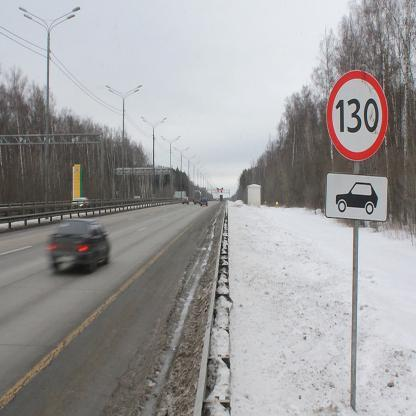road_sign: (327, 71, 387, 160), (325, 173, 386, 220)
